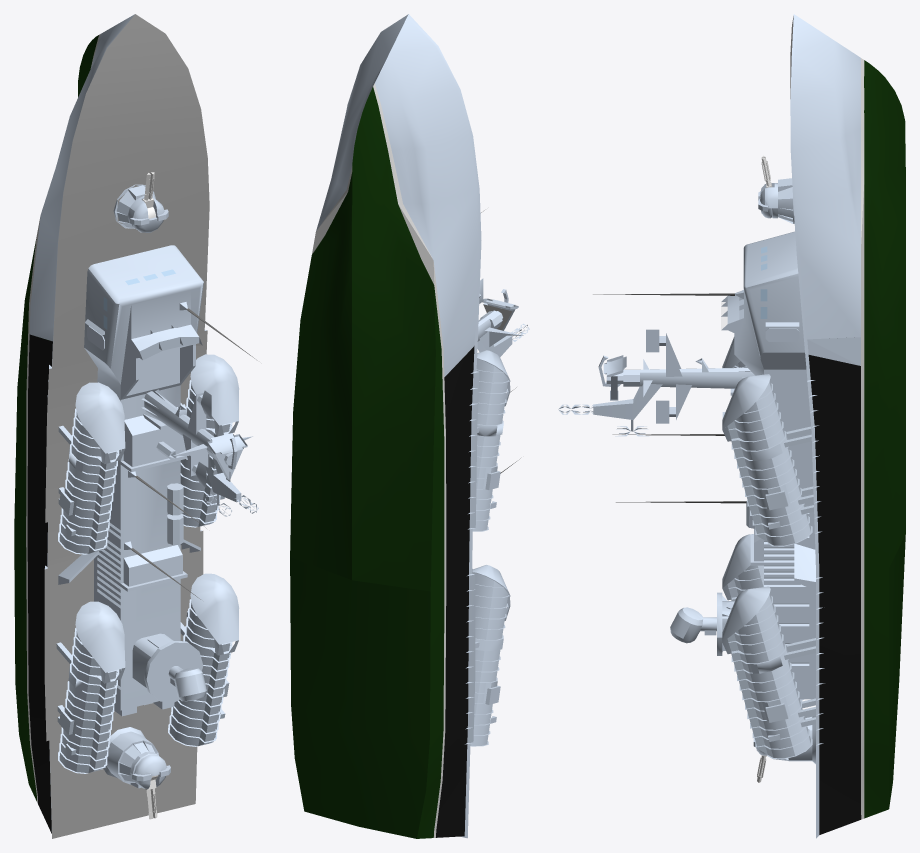
File: ship.obj
The picture shows the model from 3 angles, left to right: view 1: azimuth 30°, elevation 25°; view 2: azimuth 150°, elevation 25°; view 3: azimuth 270°, elevation 25°; orthographic projection. The views are drawn at different scales.
Visible parts, largest first — view 1: PONTE, SOVRA, STYX, SCAFMIM, OPVIVA, SCAFO, GALLEGG, TORRE10, DRUM_TILT, TORRE20, ALB_DX, ALB_PT (+2 smaller); view 2: OPVIVA, SCAFO, SCAFMIM, STYX, GALLEGG, SOVRA; view 3: OPVIVA, SCAFO, STYX, SOVRA, SCAFMIM, GALLEGG, ALB_SX, DRUM_TILT, STILOS.
Part boxes in pixels (x1,y1,x2,y2): PONTE: [44, 14, 209, 838]; SOVRA: [84, 184, 258, 788]; STYX: [56, 354, 239, 773]; SCAFMIM: [27, 334, 52, 833]; OPVIVA: [14, 35, 98, 801]; SCAFO: [29, 14, 206, 831]; GALLEGG: [26, 34, 100, 803]; TORRE10: [130, 752, 170, 789]; DRUM_TILT: [168, 666, 206, 701]; TORRE20: [127, 196, 168, 232]; ALB_DX: [182, 395, 236, 501]; ALB_PT: [172, 392, 252, 502]; OPVIVA: [290, 87, 444, 838]; SCAFO: [316, 14, 481, 838]; SCAFMIM: [436, 346, 474, 837]; STYX: [470, 350, 510, 746]; GALLEGG: [312, 83, 446, 837]; SOVRA: [477, 293, 529, 341]; OPVIVA: [864, 60, 905, 818]; SCAFO: [790, 14, 860, 838]; STYX: [722, 337, 815, 759]; SOVRA: [558, 178, 815, 764]; SCAFMIM: [808, 355, 861, 834]; GALLEGG: [861, 58, 864, 819]; ALB_SX: [593, 338, 691, 419]; DRUM_TILT: [670, 607, 716, 643]; STILOS: [593, 293, 746, 503].
Size of the model in its own units: 10.22 by 50 by 19.92.
